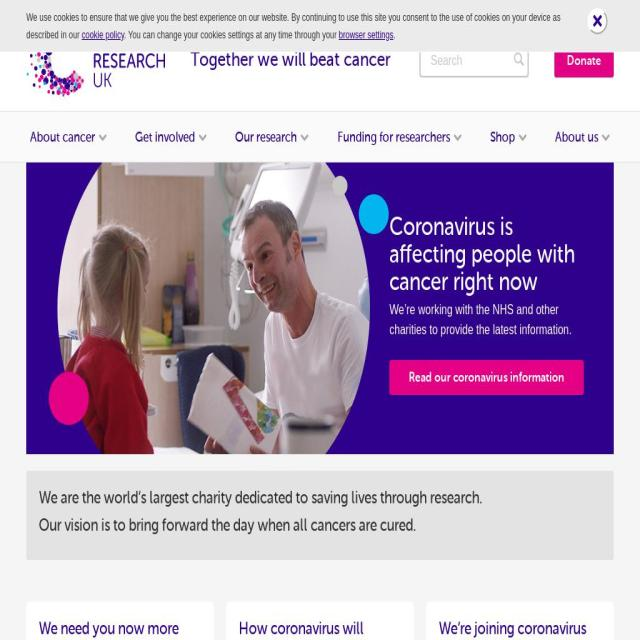button: (26, 162, 614, 454), (26, 25, 165, 97), (554, 44, 614, 78)
field: (419, 44, 510, 78)
heading: (39, 486, 601, 506), (39, 515, 601, 535), (190, 47, 390, 75), (438, 616, 586, 640), (39, 616, 179, 640), (238, 616, 363, 640)
image: (58, 162, 370, 454), (26, 25, 165, 97), (49, 371, 89, 425), (359, 193, 389, 234), (332, 175, 348, 196)
link: (336, 110, 449, 162), (30, 110, 94, 162), (234, 110, 297, 162), (134, 110, 195, 162), (554, 110, 598, 162), (489, 110, 514, 162), (338, 29, 394, 41), (82, 29, 125, 41)
text: (390, 212, 584, 296), (26, 12, 561, 40), (390, 300, 584, 341), (390, 360, 584, 396), (124, 29, 338, 41), (393, 29, 396, 41)
